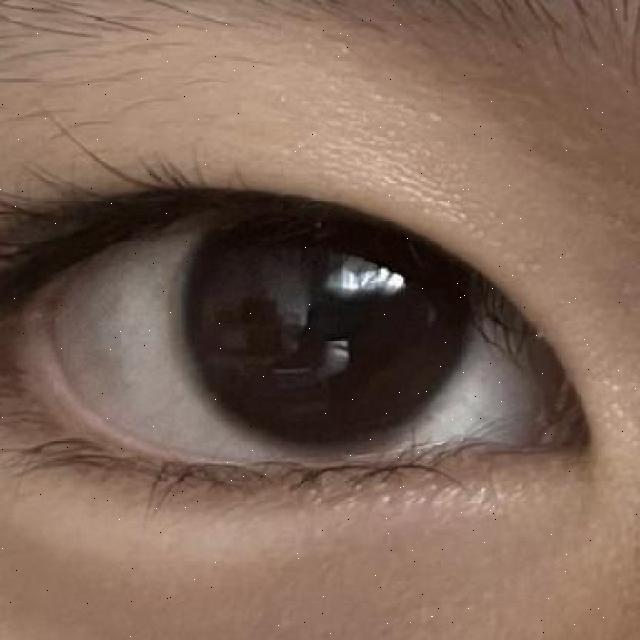Normal: (181, 175, 477, 452)
